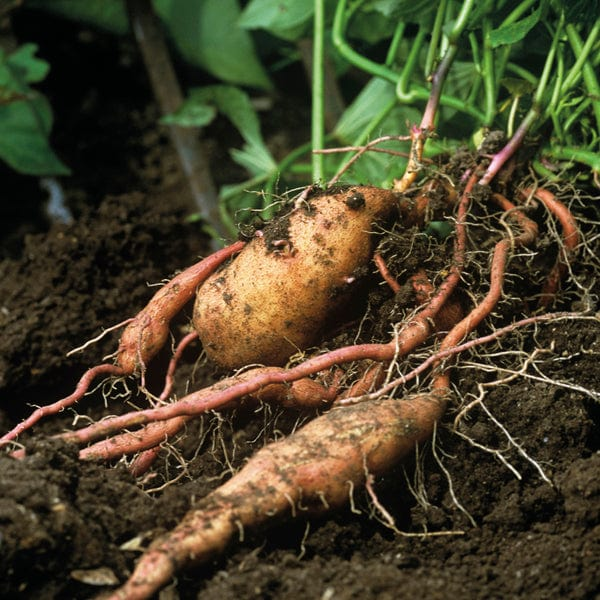potato: (173, 166, 410, 390)
